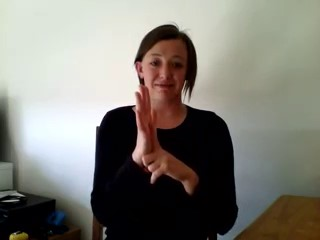L: (132, 82, 181, 190)
